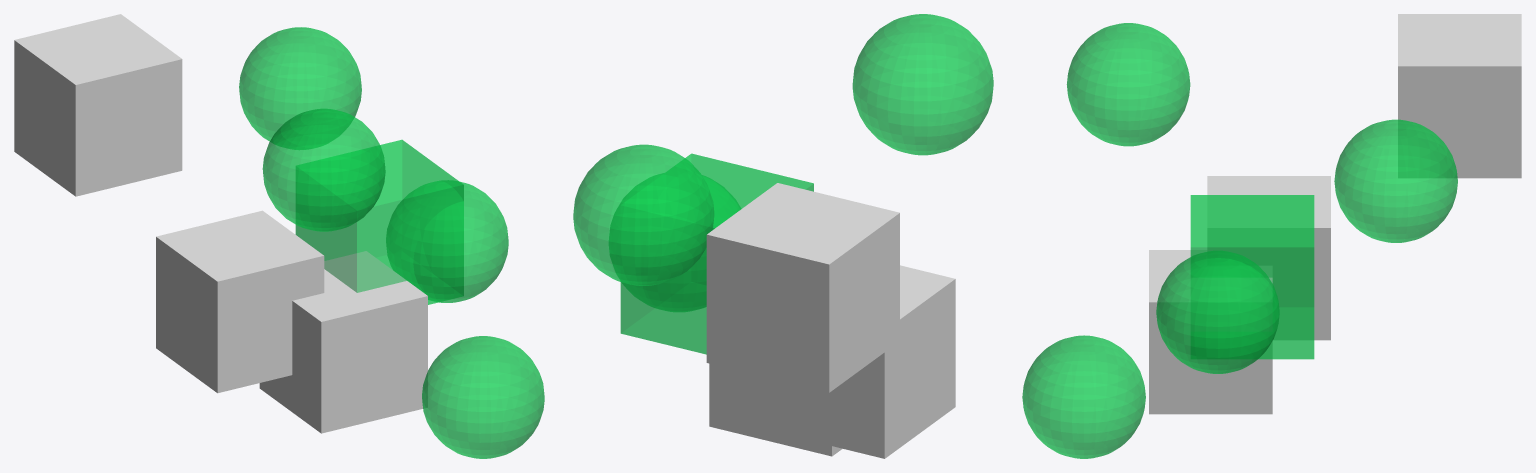
The model's file is transparencyTest.glb.
3 views of the same model, side by side, from view 1: azimuth 30°, elevation 25°; view 2: azimuth 150°, elevation 25°; view 3: azimuth 270°, elevation 25° (orthographic). The views are drawn at different scales.
Parts seen in each view (by area): view 1: Cube.003, Cube.002, Cube, Cube.001, Sphere, Sphere.001, Sphere.002, Sphere.003; view 2: Cube.003, Cube.002, Sphere, Sphere.002, Cube, Cube.001, Sphere.003; view 3: Cube, Cube.003, Cube.002, Sphere, Sphere.001, Sphere.002, Sphere.003, Cube.001.
Part boxes in pixels (bbox=[...]): Cube.003: bbox=[14, 14, 182, 196]; Cube.002: bbox=[156, 210, 324, 393]; Cube: bbox=[295, 139, 463, 304]; Cube.001: bbox=[259, 251, 427, 433]; Sphere: bbox=[262, 108, 385, 231]; Sphere.001: bbox=[422, 336, 544, 458]; Sphere.002: bbox=[239, 27, 361, 149]; Sphere.003: bbox=[386, 180, 508, 302]; Cube.003: bbox=[706, 183, 899, 392]; Cube.002: bbox=[762, 265, 955, 458]; Sphere: bbox=[852, 14, 993, 155]; Sphere.002: bbox=[573, 144, 714, 285]; Cube: bbox=[620, 153, 813, 354]; Cube.001: bbox=[709, 363, 842, 456]; Sphere.003: bbox=[609, 174, 740, 311]; Cube: bbox=[1190, 195, 1314, 359]; Cube.003: bbox=[1398, 14, 1521, 178]; Cube.002: bbox=[1207, 176, 1330, 340]; Sphere: bbox=[1066, 23, 1190, 146]; Sphere.001: bbox=[1022, 335, 1145, 458]; Sphere.002: bbox=[1334, 119, 1457, 242]; Sphere.003: bbox=[1156, 251, 1279, 373]; Cube.001: bbox=[1149, 250, 1272, 414].
Size of the model in its own units: 6.29 by 6.38 by 8.08.
